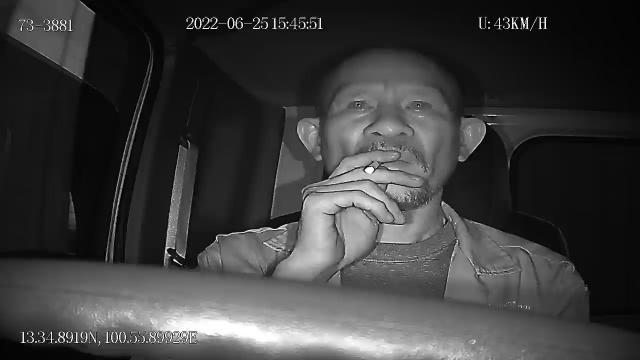SafeDriving: (339, 90, 380, 122), (398, 92, 438, 121)
Smoking: (363, 160, 379, 176)
